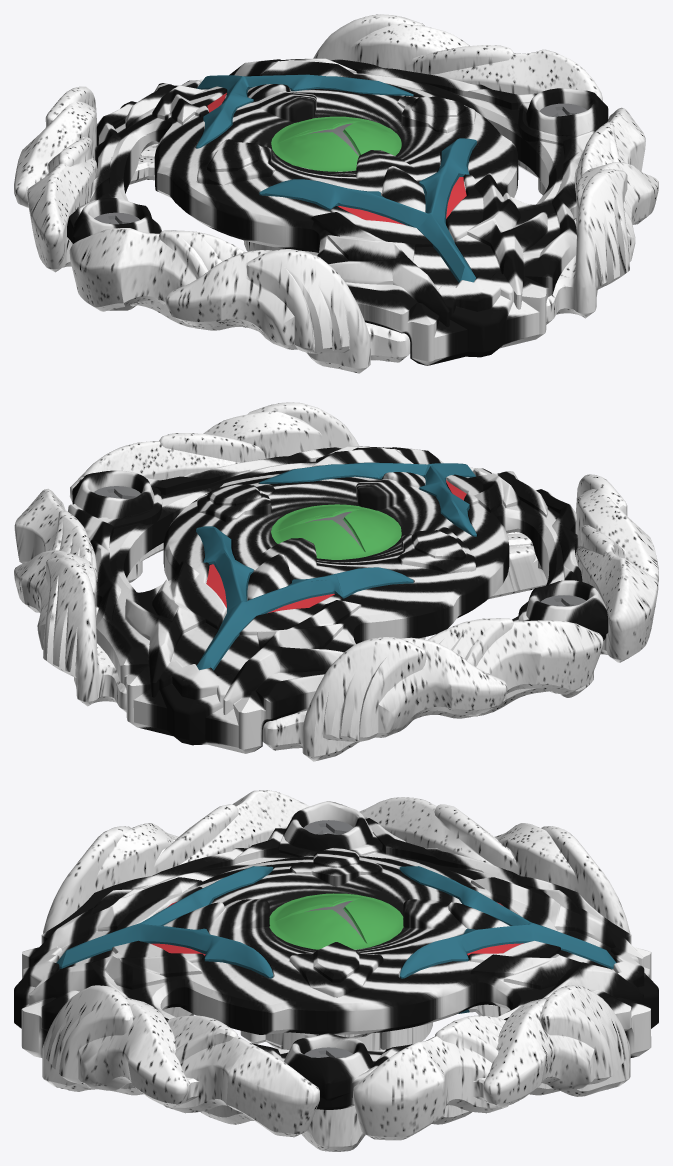
Rendered from TornadoYegdrionY4Geo.fbx.
3 renders of one model, top to bottom at view 1: azimuth 30°, elevation 25°; view 2: azimuth 150°, elevation 25°; view 3: azimuth 270°, elevation 25°, orthographic. The views are drawn at different scales.
Parts seen in each view (by area): view 1: TornadoXYegdrionY4_Layer; view 2: TornadoXYegdrionY4_Layer; view 3: TornadoXYegdrionY4_Layer.
Part boxes in pixels (x1,y1,x2,y2): TornadoXYegdrionY4_Layer: (14,14,658,373); TornadoXYegdrionY4_Layer: (14,402,658,761); TornadoXYegdrionY4_Layer: (14,790,658,1151).
Size of the model in its own units: 0.5061 by 0.1053 by 0.48.
